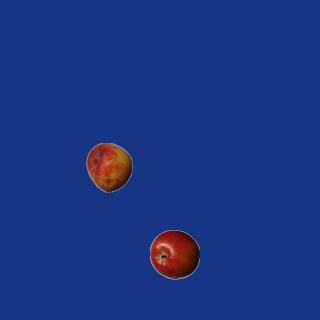Apple Braeburn: (149, 229, 199, 279)
Peach: (84, 142, 134, 192)
